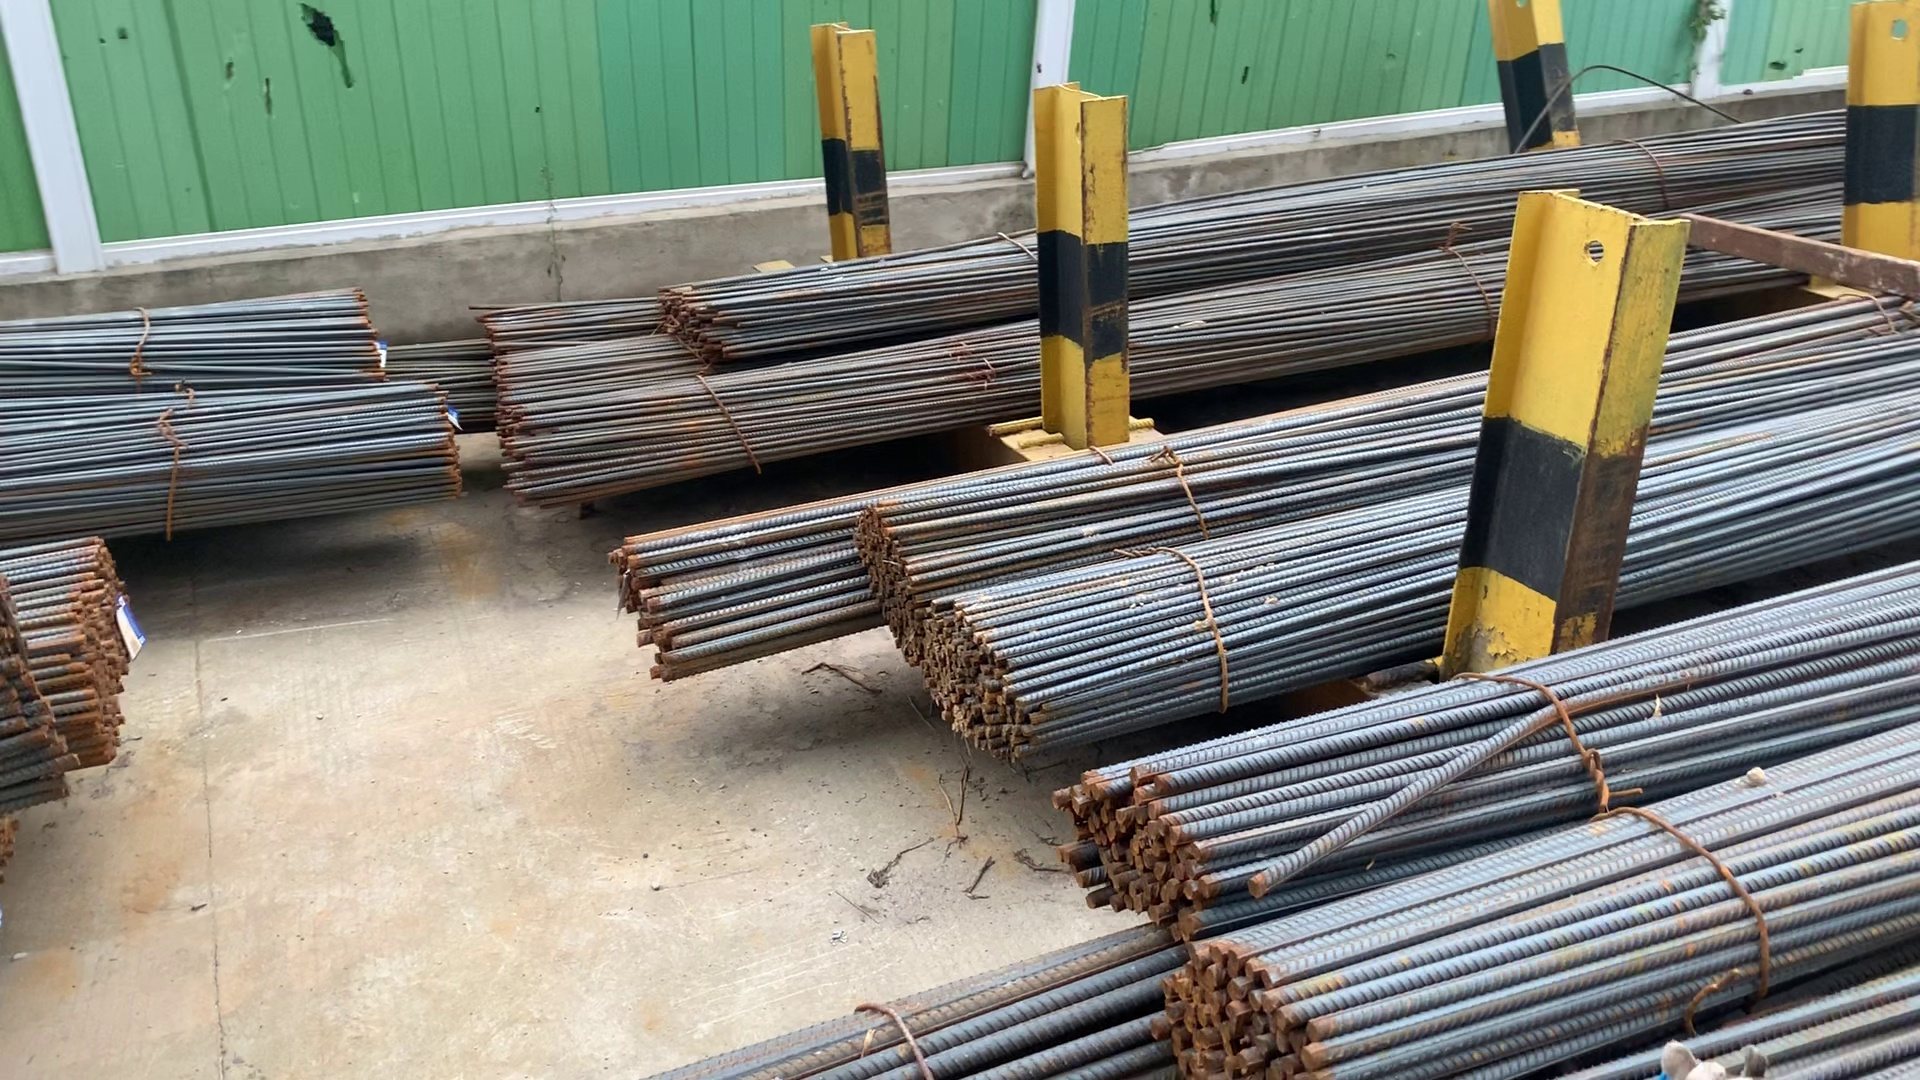rebar: (1050, 771, 1226, 927), (1147, 942, 1346, 1079), (918, 607, 1042, 762), (61, 546, 135, 769), (4, 597, 73, 798), (607, 539, 688, 687), (845, 506, 922, 662), (655, 284, 738, 368)
